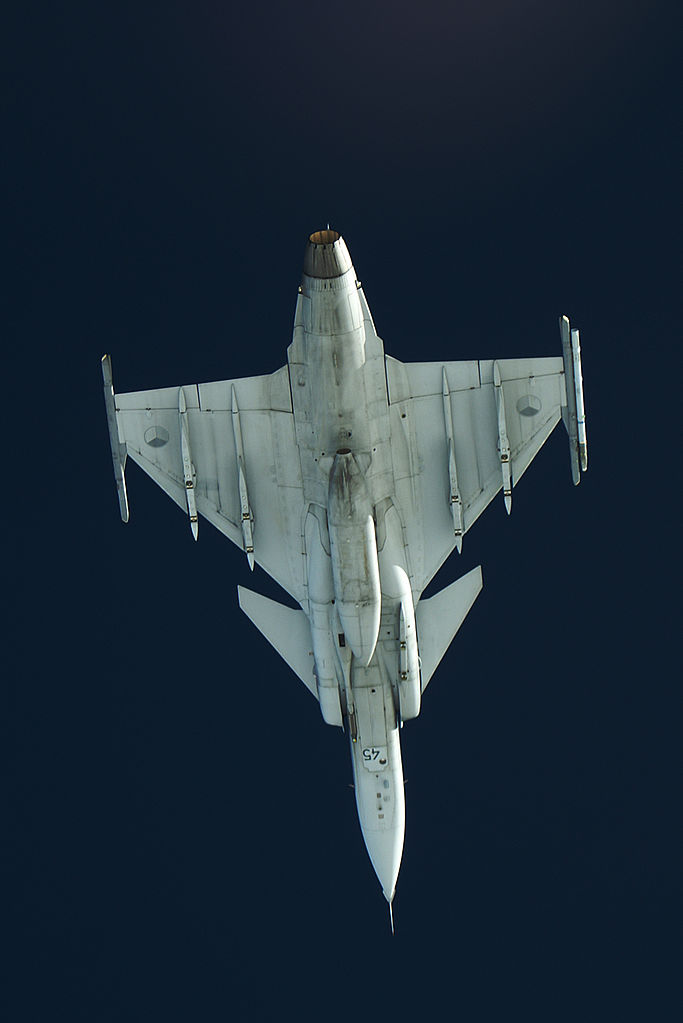JAS39: (101, 220, 589, 935)
